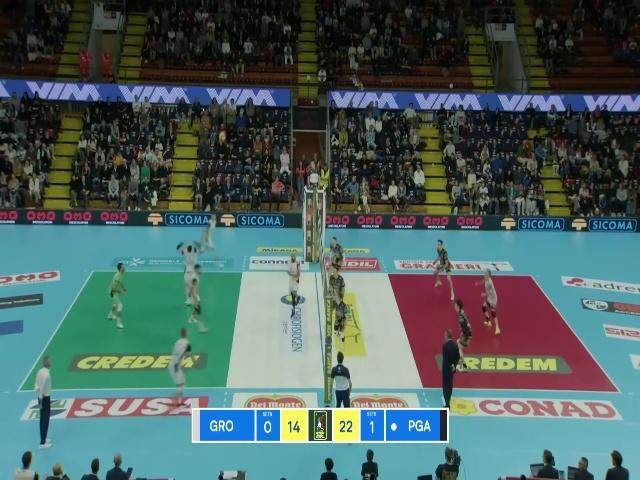volleyball court: (15, 271, 619, 392)
